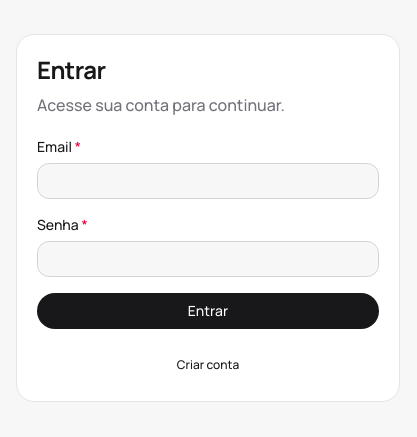
Test: LoginPage › shows a generic error on network/server failure without clearing the form
Step 1. Type "owner@example.com" into the field labelled "Email *" → x=208, y=181, box [37, 163, 379, 199]
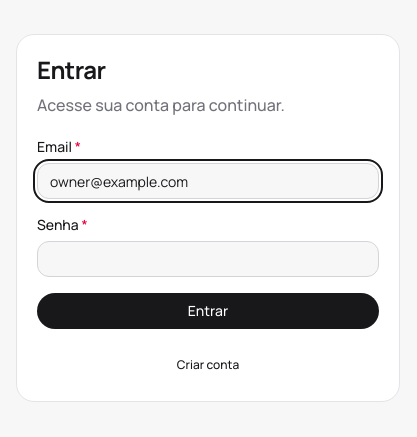
Step 2. Type "SomePassword123" into the password field labelled "Senha *" → x=208, y=259, box [37, 241, 379, 277]
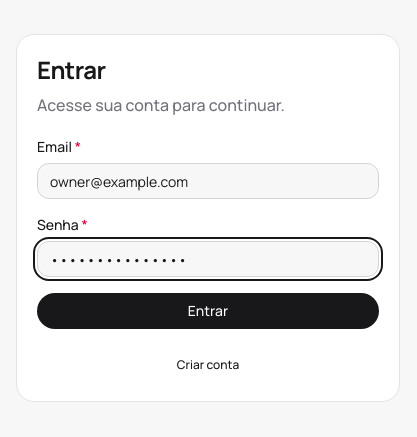
Step 3. Click the button "Entrar" → x=208, y=311, box [37, 293, 379, 329]
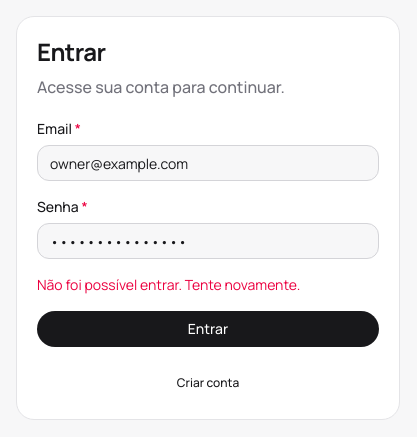
Check: the message shows "Não foi possível entrar", box [37, 275, 300, 294]
